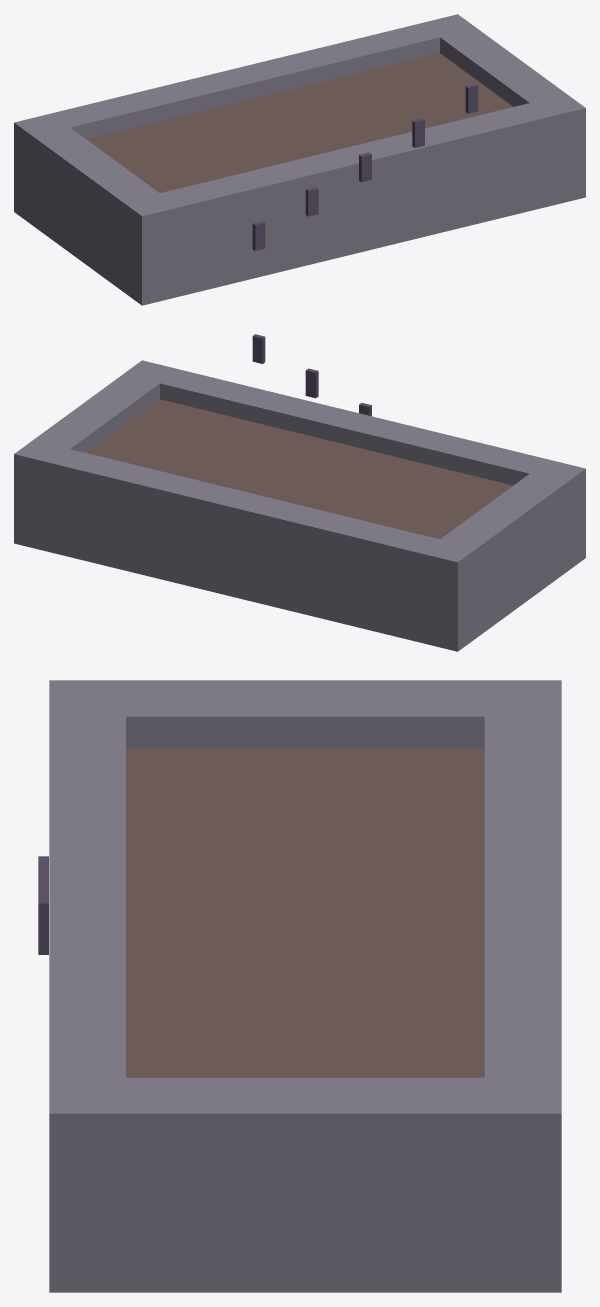
The model's file is planter-broken.glb.
3 renders of one model, top to bottom at view 1: azimuth 30°, elevation 25°; view 2: azimuth 150°, elevation 25°; view 3: azimuth 270°, elevation 25°, orthographic. The views are drawn at different scales.
Parts seen in each view (by area): view 1: side-1, soil, base, end--1, side--1, end-1, fracture-0, fracture-1, fracture-4; view 2: side--1, soil, end--1, base, side-1, end-1; view 3: soil, end-1, base, end--1, side--1, side-1.
Boxes of the visible parts, bbox=[...] form: side-1: bbox=[160, 103, 548, 295]; soil: bbox=[86, 53, 512, 192]; base: bbox=[14, 162, 585, 305]; end--1: bbox=[14, 113, 178, 305]; side--1: bbox=[51, 23, 439, 139]; end-1: bbox=[421, 14, 585, 206]; fracture-0: bbox=[252, 221, 265, 250]; fracture-1: bbox=[305, 187, 318, 216]; fracture-4: bbox=[465, 84, 478, 113]; side--1: bbox=[51, 449, 439, 641]; soil: bbox=[87, 399, 513, 539]; end--1: bbox=[421, 459, 585, 650]; base: bbox=[14, 509, 585, 651]; side-1: bbox=[160, 369, 548, 485]; end-1: bbox=[14, 360, 178, 552]; soil: bbox=[126, 748, 484, 1077]; end-1: bbox=[49, 1077, 561, 1292]; base: bbox=[49, 1223, 561, 1292]; end--1: bbox=[49, 680, 561, 748]; side--1: bbox=[484, 716, 561, 1077]; side-1: bbox=[49, 716, 125, 1077].
Size of the model in its own units: 2.4 by 0.726 by 1.23.
